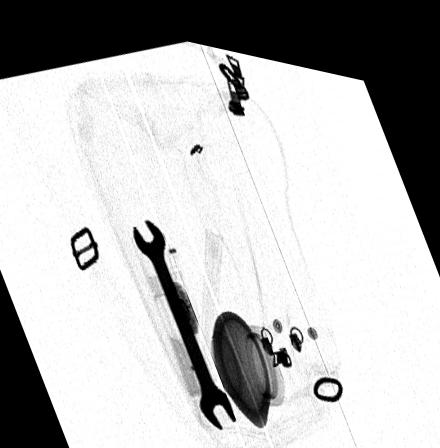Wrench: (134, 209, 237, 419)
